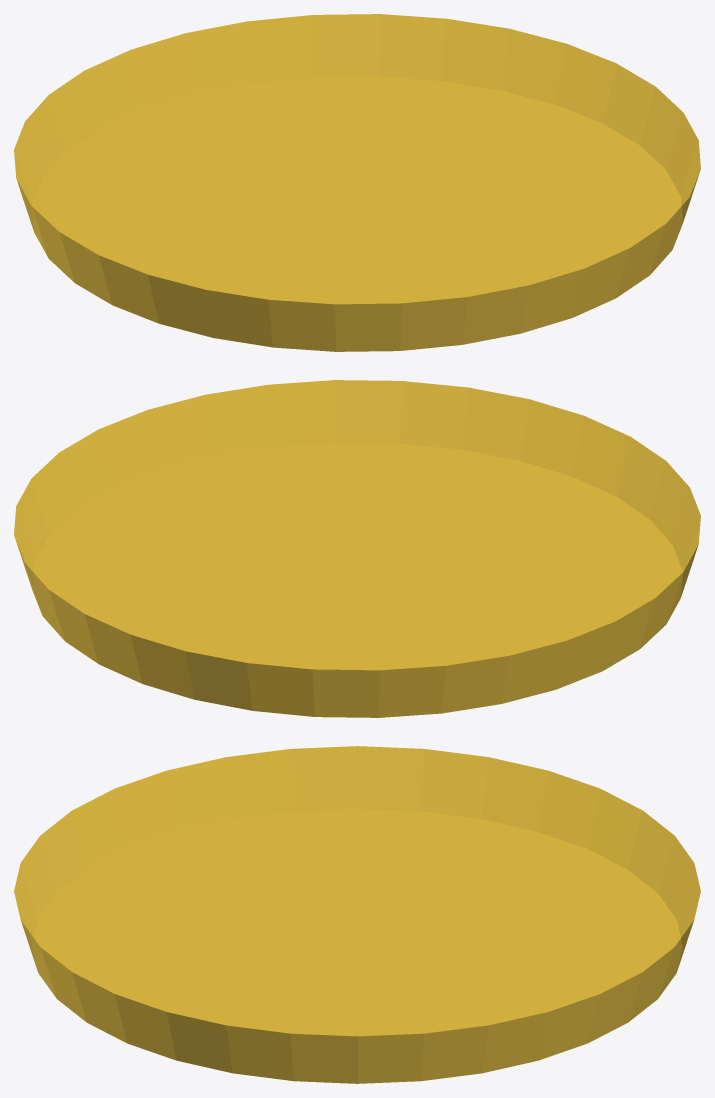
The model's file is eggbeat4.fbx.
The picture shows the model from 3 angles, top to bottom: view 1: azimuth 30°, elevation 25°; view 2: azimuth 150°, elevation 25°; view 3: azimuth 270°, elevation 25°; orthographic projection.
Visible parts, largest first — view 1: Cylinder; view 2: Cylinder; view 3: Cylinder.
Part boxes in pixels (box(x1,y1,x2,y2)): Cylinder: box(14, 14, 700, 351); Cylinder: box(14, 380, 700, 717); Cylinder: box(14, 746, 700, 1083).
Size of the model in its own units: 113 by 10.01 by 113.
